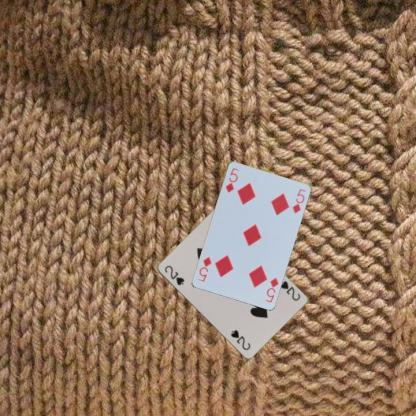2s: (277, 278, 301, 301), (162, 263, 185, 286)
5d: (223, 165, 240, 194), (263, 275, 280, 303)
